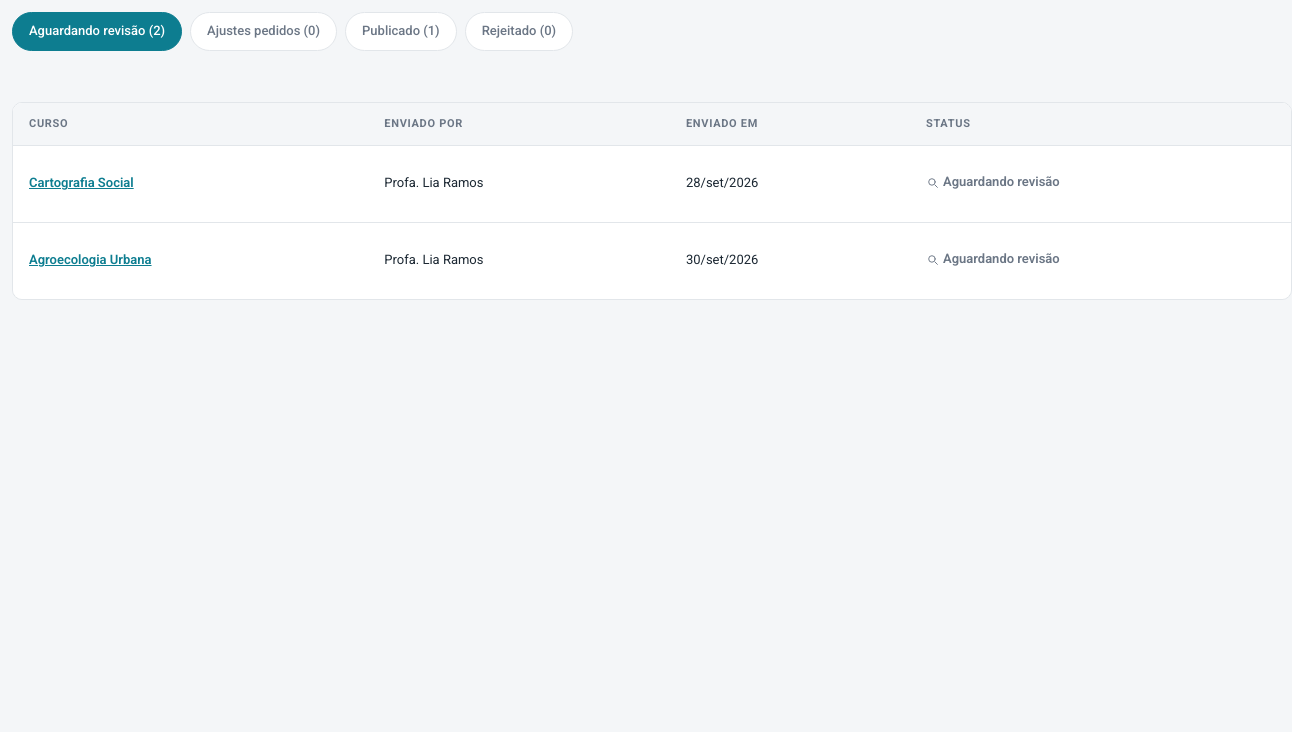
Scenario: CourseReviewWorkspace › publishes an approved course and takes it out of the pending queue
The image size is (1292, 732).
Click the button "Cartografia Social" at (81, 184), box [29,162,134,206]
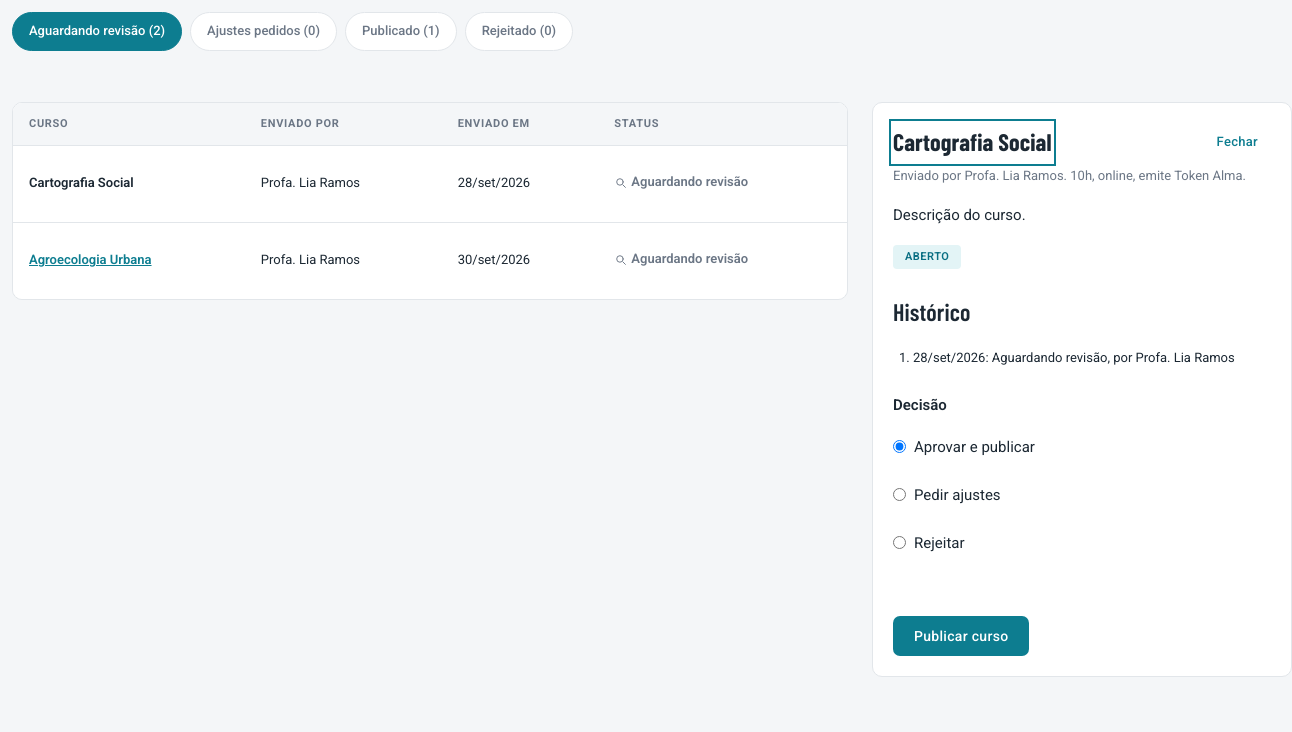
Click the button "Publicar curso" at (961, 636), box [893,616,1029,656]
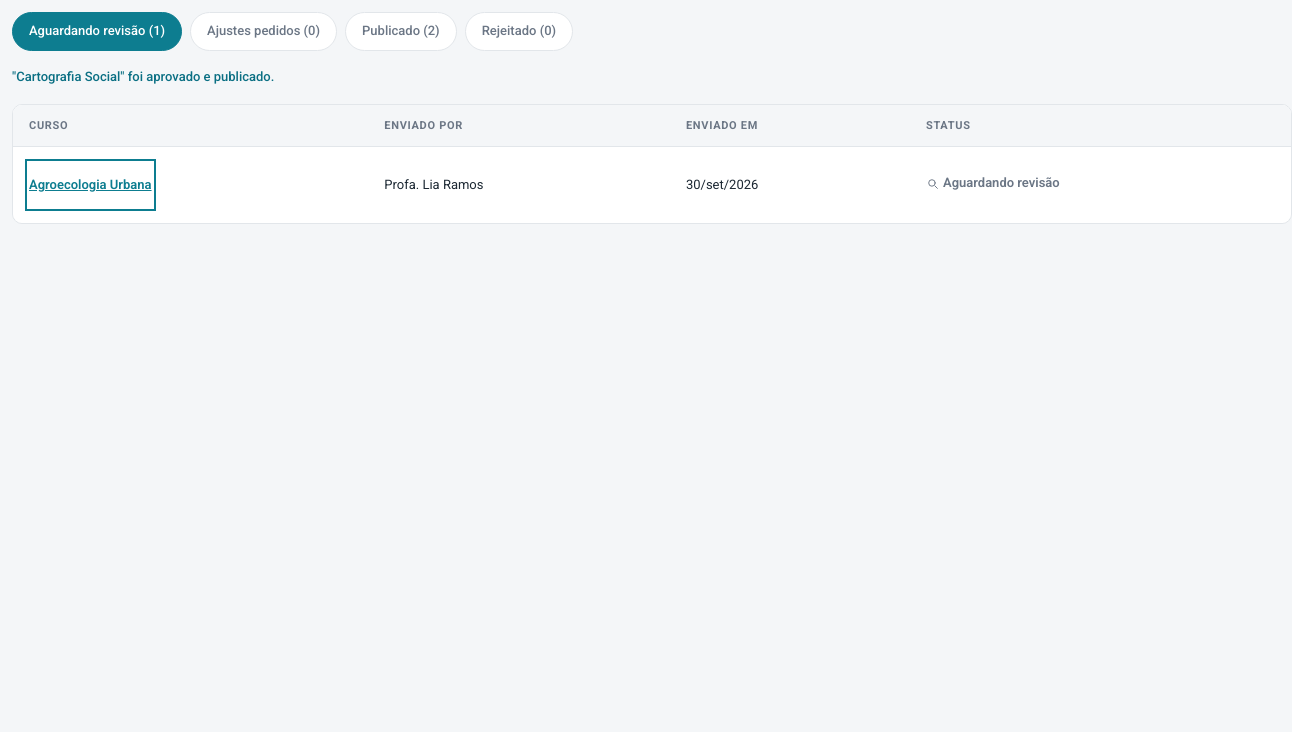
Check: the text "\"Cartografia Social\" foi aprovado e publicado." is shown, box [12,69,274,84]
Check: the button "Publicado (2)" is shown, box [345,12,457,51]
